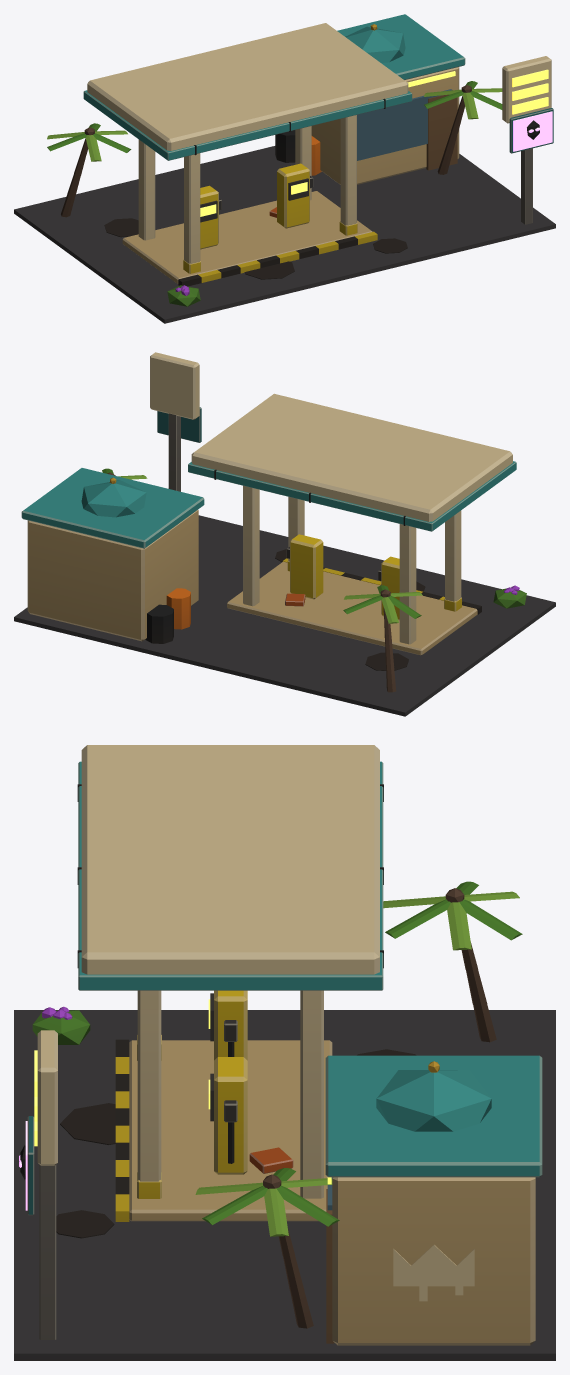
File: n_gas.glb
3 views of the same model, one above another, from view 1: azimuth 30°, elevation 25°; view 2: azimuth 150°, elevation 25°; view 3: azimuth 270°, elevation 25° (orthographic). The views are drawn at different scales.
Parts seen in each view (by area): view 1: n_gas; view 2: n_gas; view 3: n_gas.
Boxes of the visible parts, x1,y1,x2,y2 form: n_gas: (14,14,555,323); n_gas: (14,352,555,716); n_gas: (14,745,555,1360).
Size of the model in its own units: 12.63 by 4.8 by 8.
